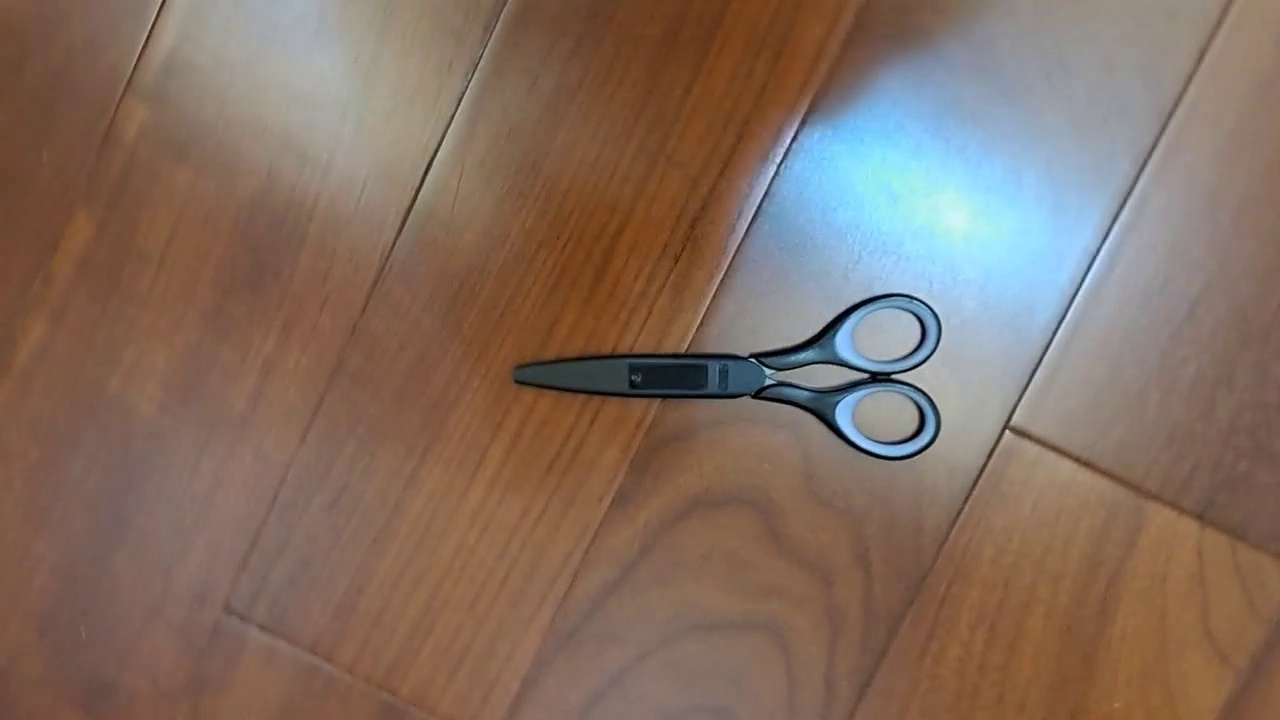scissors: (512, 292, 941, 461)
